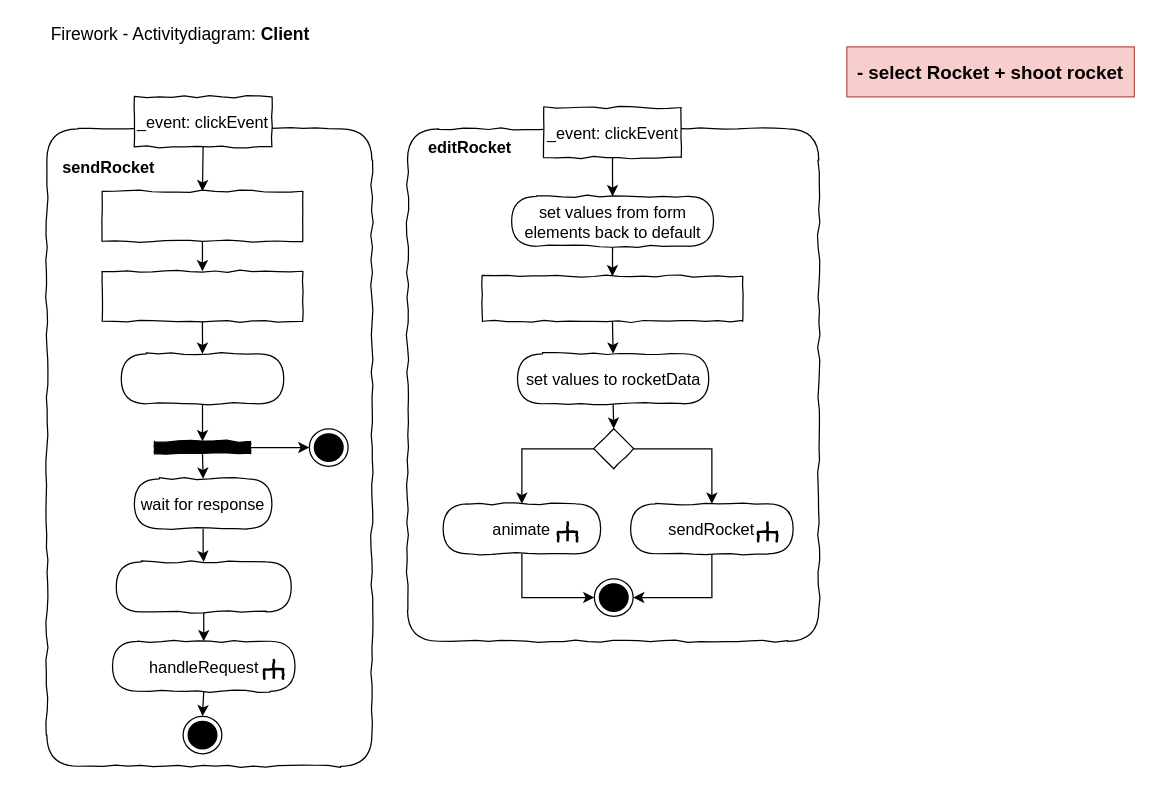
Image size: 1156x788. Some labels were removed from this diagram. Each missing label, with the centre of its shape:
notify user about request send: the point at 203,586
query = create query from rocket: the point at 202,295
rocket = get data from Form: the point at 202,215
rocketData = get data from query: the point at 612,298
send query to server: the point at 202,378
